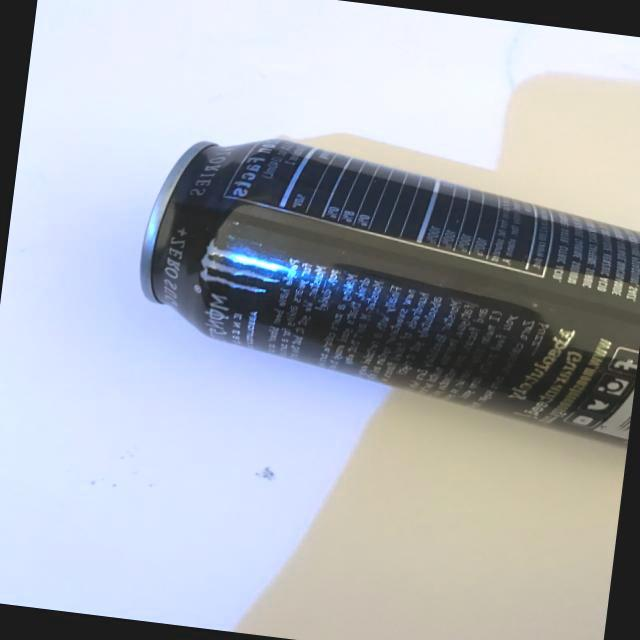metal: (41, 105, 640, 449)
